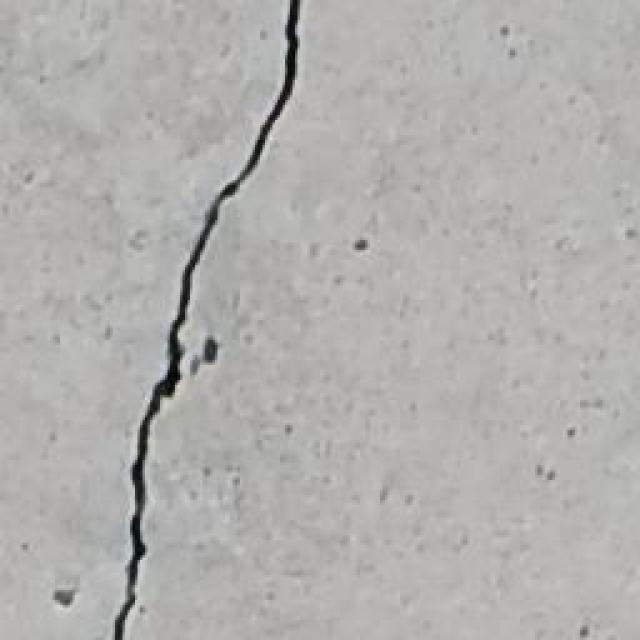concrete-crack: (110, 0, 305, 640), (195, 328, 222, 368)
